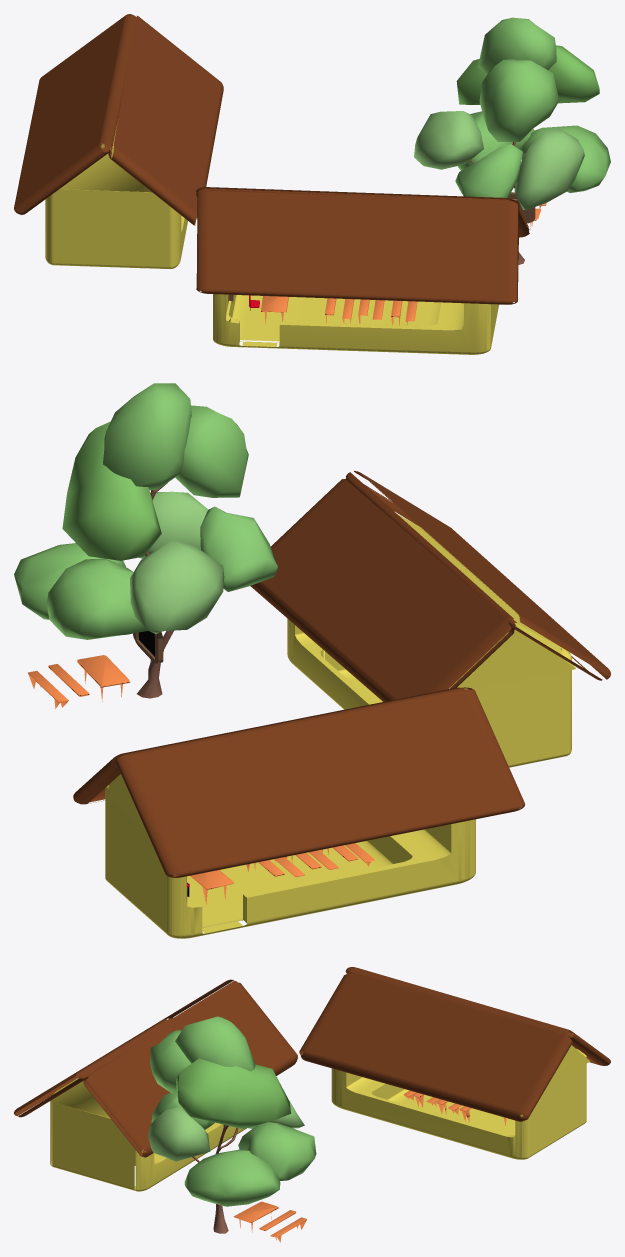
File: Villageschool.glb
3 renders of one model, top to bottom at view 1: azimuth 30°, elevation 25°; view 2: azimuth 150°, elevation 25°; view 3: azimuth 270°, elevation 25°, orthographic. The views are drawn at different scales.
Parts seen in each view (by area): view 1: VSCHOOL, tree_001; view 2: VSCHOOL, tree_001; view 3: VSCHOOL, tree_001.
Part boxes in pixels (x1=…): VSCHOOL: x1=14, y1=14, x2=546, y2=354; tree_001: x1=414, y1=17, x2=610, y2=264; VSCHOOL: x1=27, y1=471, x2=610, y2=938; tree_001: x1=14, y1=383, x2=278, y2=698; VSCHOOL: x1=14, y1=967, x2=610, y2=1242; tree_001: x1=148, y1=1016, x2=316, y2=1233.
Size of the model in its own units: 221 by 104 by 266.
Materials: 2 (2 with a texture image).
